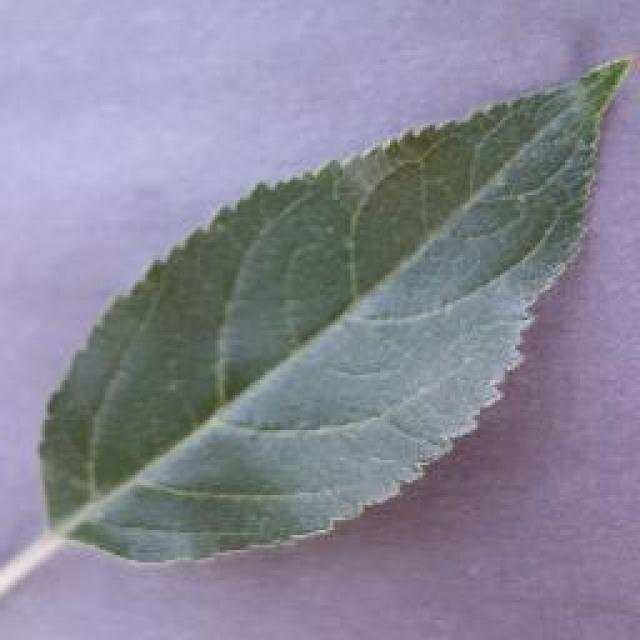apple healthy: (32, 48, 638, 568)
